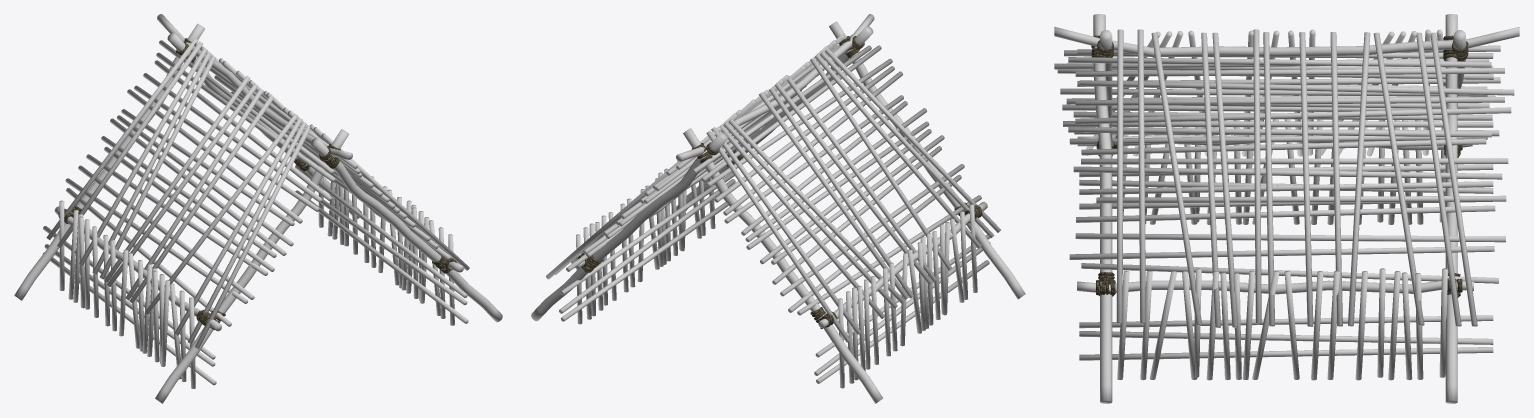
File: midpoly_viking_tent_009.obj
The picture shows the model from 3 angles, left to right: view 1: azimuth 30°, elevation 25°; view 2: azimuth 150°, elevation 25°; view 3: azimuth 270°, elevation 25°; orthographic projection. The views are drawn at different scales.
Parts seen in each view (by area): view 1: Cylinder.067, Cylinder.068, Cylinder.070, Cylinder.312, Cylinder.069, Cylinder.309, Cylinder.310, Cylinder.311, Cylinder.307, Cylinder.302, Cylinder.300, Cylinder.308 (+39 smaller); view 2: Cylinder.070, Cylinder.071, Cylinder.068, Cylinder.069, Cylinder.310, Cylinder.306, Cylinder.300, Cylinder.307, Cylinder.305, Cylinder.302, Cylinder.312, Cylinder.308 (+37 smaller); view 3: Cylinder.069, Cylinder.067, Cylinder.071, Cylinder.384, Cylinder.376, Cylinder.378, Cylinder.383, Cylinder.388, Cylinder.374, Cylinder.387, Cylinder.377, Cylinder.379 (+63 smaller).
Part boxes in pixels (box(x1,y1,x2,y2)): Cylinder.067: box(311, 137, 502, 322); Cylinder.068: box(155, 129, 349, 403); Cylinder.070: box(14, 23, 204, 300); Cylinder.312: box(195, 125, 310, 349); Cylinder.069: box(157, 14, 352, 159); Cylinder.309: box(79, 48, 207, 265); Cylinder.310: box(174, 117, 302, 335); Cylinder.311: box(188, 121, 306, 344); Cylinder.307: box(99, 55, 215, 279); Cylinder.302: box(104, 76, 250, 282); Cylinder.300: box(46, 38, 198, 239); Cylinder.308: box(92, 52, 211, 274); Cylinder.070: box(683, 128, 883, 403); Cylinder.071: box(531, 132, 727, 321); Cylinder.068: box(829, 21, 1025, 299); Cylinder.069: box(676, 14, 874, 161); Cylinder.310: box(815, 54, 981, 248); Cylinder.306: box(769, 87, 913, 298); Cylinder.300: box(706, 130, 850, 342); Cylinder.307: box(728, 119, 904, 303); Cylinder.305: box(775, 83, 932, 284); Cylinder.302: box(758, 92, 908, 299); Cylinder.312: box(825, 48, 1000, 232); Cylinder.308: box(723, 122, 897, 308); Cylinder.069: box(1054, 27, 1519, 57); Cylinder.067: box(1093, 14, 1112, 403); Cylinder.071: box(1445, 14, 1457, 403); Cylinder.384: box(1081, 158, 1508, 164); Cylinder.376: box(1079, 80, 1514, 95); Cylinder.378: box(1075, 107, 1511, 124); Cylinder.383: box(1073, 166, 1502, 179); Cylinder.388: box(1075, 233, 1505, 242); Cylinder.374: box(1068, 57, 1491, 67); Cylinder.387: box(1069, 246, 1494, 259); Cylinder.377: box(1068, 127, 1491, 137); Cylinder.379: box(1075, 97, 1504, 105).
Bounding box in the file's own units: 7.45 × 4.72 × 7.06.
